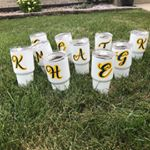cups: (88, 48, 116, 97), (7, 45, 37, 87), (44, 49, 71, 93), (68, 37, 91, 77)
